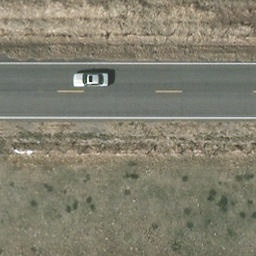car: (73, 72, 111, 89)
